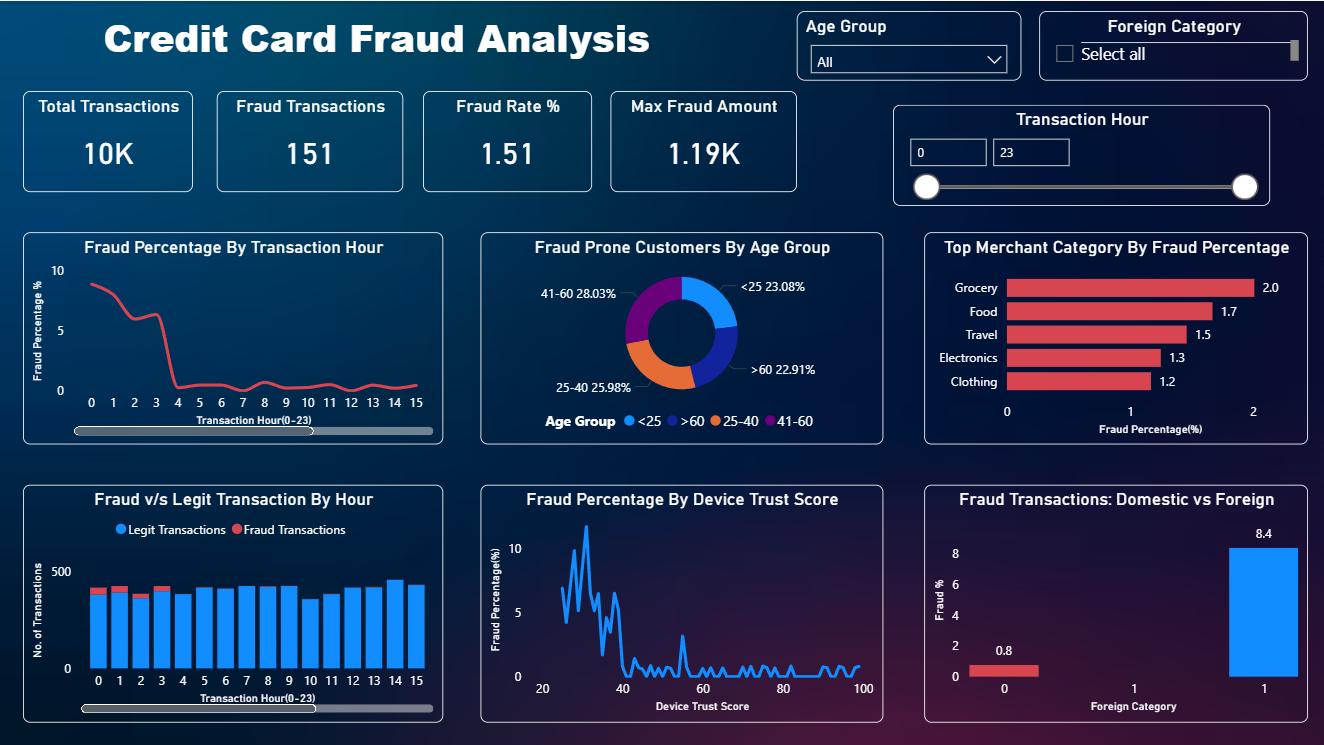

This screenshot's page, from the dashboard's own definition file:
{"tool":"powerbi","page":{"name":"Page 1","canvas":[1280,720],"ordinal":0},"visuals":[{"type":"textbox","title":"Credit Card Fraud Analysis","box":[70,9.7,591.2,55.5],"z":0},{"type":"lineChart","title":"Fraud Percentage By Transaction Hour","fields":{"Category":["fraud_by_hour_percentage.transaction_hour"],"Y":["Avg(fraud_by_hour_percentage.fraud_percentage)"]},"box":[24.1,223.2,405.4,205.1],"z":1000},{"type":"columnChart","title":"Fraud v/s Legit Transaction By Hour","fields":{"Category":["fraud_vs_legit_by_hour.transaction_hour"],"Y":["Sum(fraud_vs_legit_by_hour.legit_transactions)","Sum(fraud_vs_legit_by_hour.fraud_transactions)"]},"box":[24.1,466.9,405.4,229.2],"z":2000},{"type":"barChart","title":"Top Merchant Category By Fraud Percentage","fields":{"Category":["fraud_by_merchant.merchant_category"],"Y":["Avg(fraud_by_merchant.fraud_percentage)"]},"box":[894,223.2,370.4,205.1],"z":3000},{"type":"lineChart","title":"Fraud Percentage By Device Trust Score ","fields":{"Category":["fraud_by_device_score.device_trust_score"],"Y":["Avg(fraud_by_device_score.fraud_percentage)"]},"box":[465.7,466.9,388.5,229.2],"z":4000},{"type":"donutChart","title":"Fraud Prone Customers By Age Group","fields":{"Category":["fraud_by_age_group.age_group"],"Y":["Avg(fraud_by_age_group.fraud_percentage)"]},"box":[465.7,223.2,388.5,205.1],"z":5000},{"type":"clusteredColumnChart","title":"Fraud Transactions: Domestic vs Foreign","fields":{"Category":["fraud_by_foreign_category.foreign_category"],"Y":["Avg(fraud_by_foreign_category.fraud_percentage)"]},"box":[894,466.9,370.4,229.2],"z":6000},{"type":"card","title":"Total Transactions","fields":{"Values":["fraud_summary.Total Transactions"]},"box":[24.1,86.9,164.1,97.7],"z":7000},{"type":"card","title":"Fraud Transactions","fields":{"Values":["fraud_summary.Fraud Transactions"]},"box":[211.1,86.9,179.8,97.7],"z":8000},{"type":"card","title":"Fraud Rate %","fields":{"Values":["fraud_vs_legit_by_hour.Fraud Rate (%)"]},"box":[410.2,86.9,162.9,97.7],"z":9000},{"type":"card","title":"Max Fraud Amount","fields":{"Values":["top_fraud_transactions.Max Fraud Amount"]},"box":[591.2,86.9,179.8,97.7],"z":10000},{"type":"slicer","title":"Age Group","fields":{"Values":["fraud_by_age_group.age_group"]},"box":[770.9,9.7,217.2,67.6],"z":11000},{"type":"slicer","title":"Transaction Hour","fields":{"Values":["fraud_by_hour_percentage.transaction_hour"]},"box":[863.8,100.1,364.3,97.7],"z":12000},{"type":"slicer","title":"Foreign Category","fields":{"Values":["fraud_by_foreign_category.foreign_category"]},"box":[1005,9.7,259.4,67.6],"z":12001}]}

Visuals, with their boxes in screenshot pixels (x1, y1, x2, y2), scaled from the page's 1280x720 canvas onto the 1324x745 screenshot:
"Credit Card Fraud Analysis" textbox: bbox=[72, 10, 684, 67]
"Fraud Percentage By Transaction Hour" lineChart: bbox=[25, 231, 444, 443]
"Fraud v/s Legit Transaction By Hour" columnChart: bbox=[25, 483, 444, 720]
"Top Merchant Category By Fraud Percentage" barChart: bbox=[925, 231, 1308, 443]
"Fraud Percentage By Device Trust Score " lineChart: bbox=[482, 483, 884, 720]
"Fraud Prone Customers By Age Group" donutChart: bbox=[482, 231, 884, 443]
"Fraud Transactions: Domestic vs Foreign" clusteredColumnChart: bbox=[925, 483, 1308, 720]
"Total Transactions" card: bbox=[25, 90, 195, 191]
"Fraud Transactions" card: bbox=[218, 90, 404, 191]
"Fraud Rate %" card: bbox=[424, 90, 593, 191]
"Max Fraud Amount" card: bbox=[612, 90, 798, 191]
"Age Group" slicer: bbox=[797, 10, 1022, 80]
"Transaction Hour" slicer: bbox=[893, 104, 1270, 205]
"Foreign Category" slicer: bbox=[1040, 10, 1308, 80]
